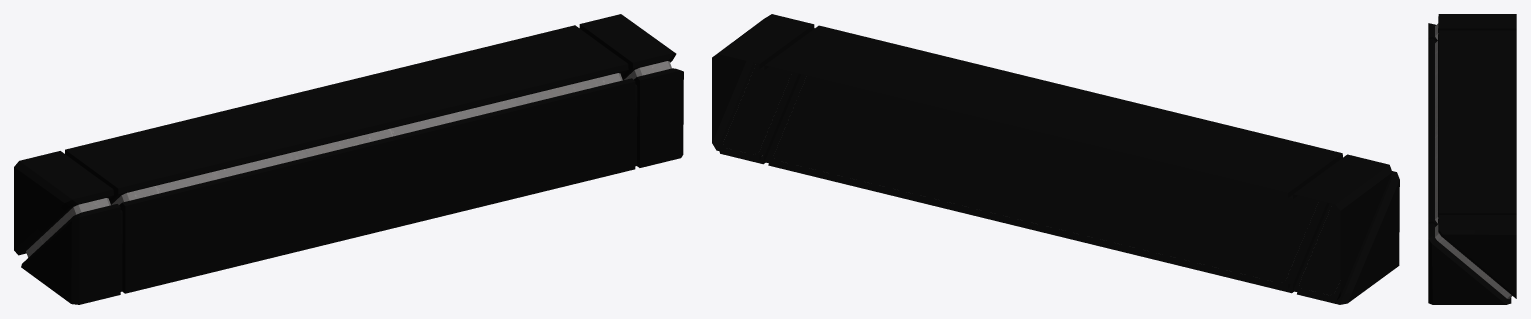
The model's file is KB3D_CBP_UtilityDevice_J.fbx.
The picture shows the model from 3 angles, left to right: view 1: azimuth 30°, elevation 25°; view 2: azimuth 150°, elevation 25°; view 3: azimuth 270°, elevation 25°; orthographic projection. The views are drawn at different scales.
Visible parts, largest first — view 1: KB3D_CBP_UtilityDevice_J_Main; view 2: KB3D_CBP_UtilityDevice_J_Main; view 3: KB3D_CBP_UtilityDevice_J_Main.
Part boxes in pixels (x1,y1,x2,y2): KB3D_CBP_UtilityDevice_J_Main: (14,14,683,304); KB3D_CBP_UtilityDevice_J_Main: (712,14,1399,304); KB3D_CBP_UtilityDevice_J_Main: (1428,14,1516,304).
Size of the model in its own units: 785 by 123 by 133.
